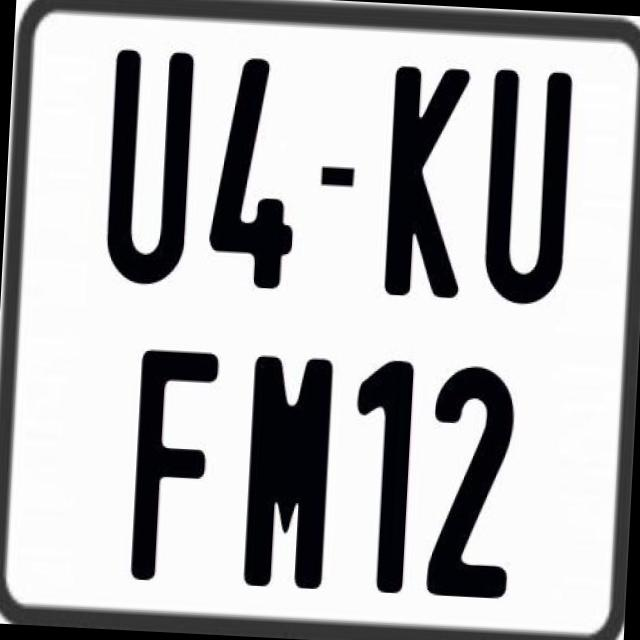1: (344, 358, 412, 594)
2: (426, 363, 522, 601)
4: (205, 57, 308, 293)
F: (130, 349, 222, 593)
K: (382, 62, 468, 304)
M: (242, 352, 334, 589)
U: (478, 65, 572, 302), (102, 44, 192, 288)
